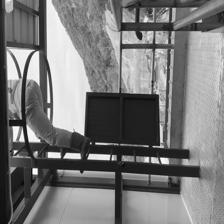Feet: (23, 73, 96, 152)
Ladder: (0, 137, 213, 193)
